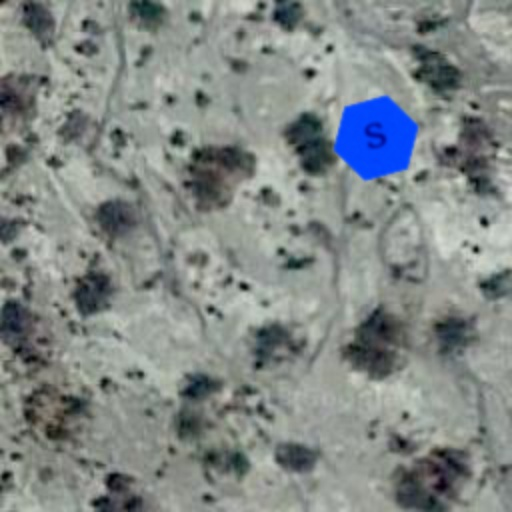hexagon: (320, 82, 432, 194)
